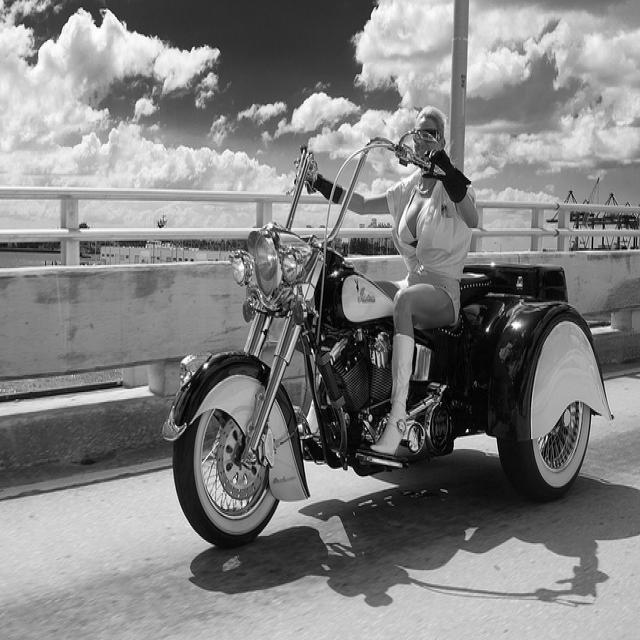motor: (162, 131, 614, 549)
